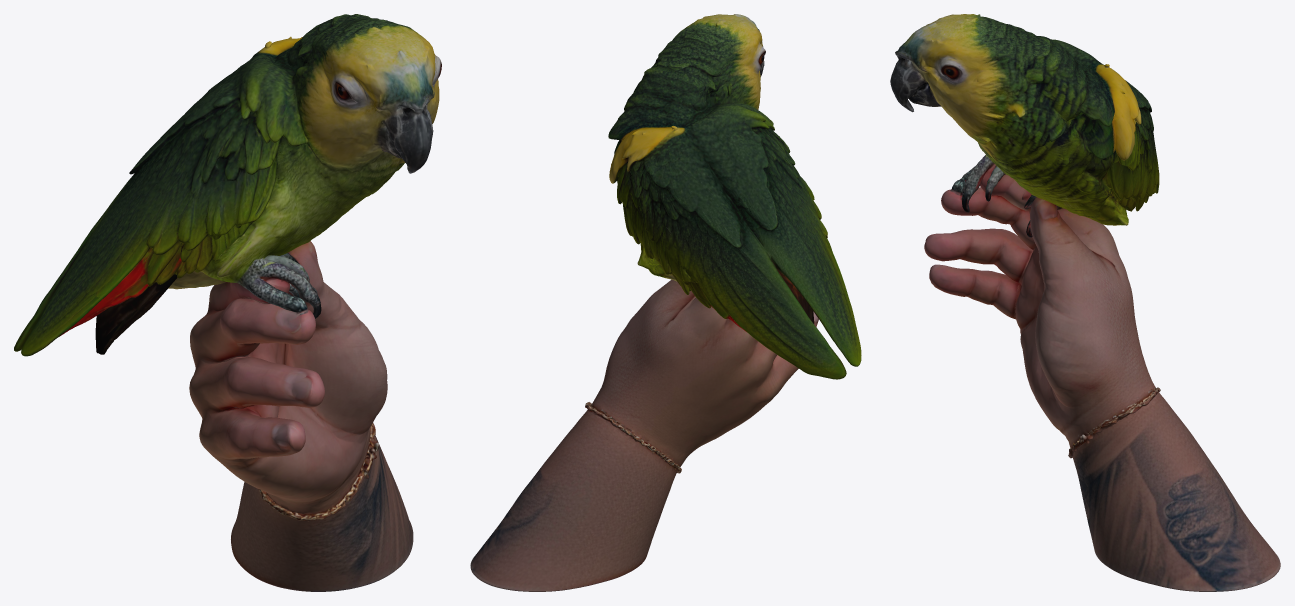
Rendered from papagaio.glb.
The picture shows the model from 3 angles, left to right: view 1: azimuth 30°, elevation 25°; view 2: azimuth 150°, elevation 25°; view 3: azimuth 270°, elevation 25°; orthographic projection. The views are drawn at different scales.
Parts seen in each view (by area): view 1: tripo_node_2f93a9ba-a8ef-46e4-950c-a9cced32888f; view 2: tripo_node_2f93a9ba-a8ef-46e4-950c-a9cced32888f; view 3: tripo_node_2f93a9ba-a8ef-46e4-950c-a9cced32888f.
Part boxes in pixels (box(x1,y1,x2,y2)): tripo_node_2f93a9ba-a8ef-46e4-950c-a9cced32888f: box(14, 14, 441, 591); tripo_node_2f93a9ba-a8ef-46e4-950c-a9cced32888f: box(470, 14, 861, 591); tripo_node_2f93a9ba-a8ef-46e4-950c-a9cced32888f: box(890, 14, 1280, 591).
Bounding box in the file's own units: 0.7253 × 1 × 0.6953.
Materials: 1 (1 with a texture image).
